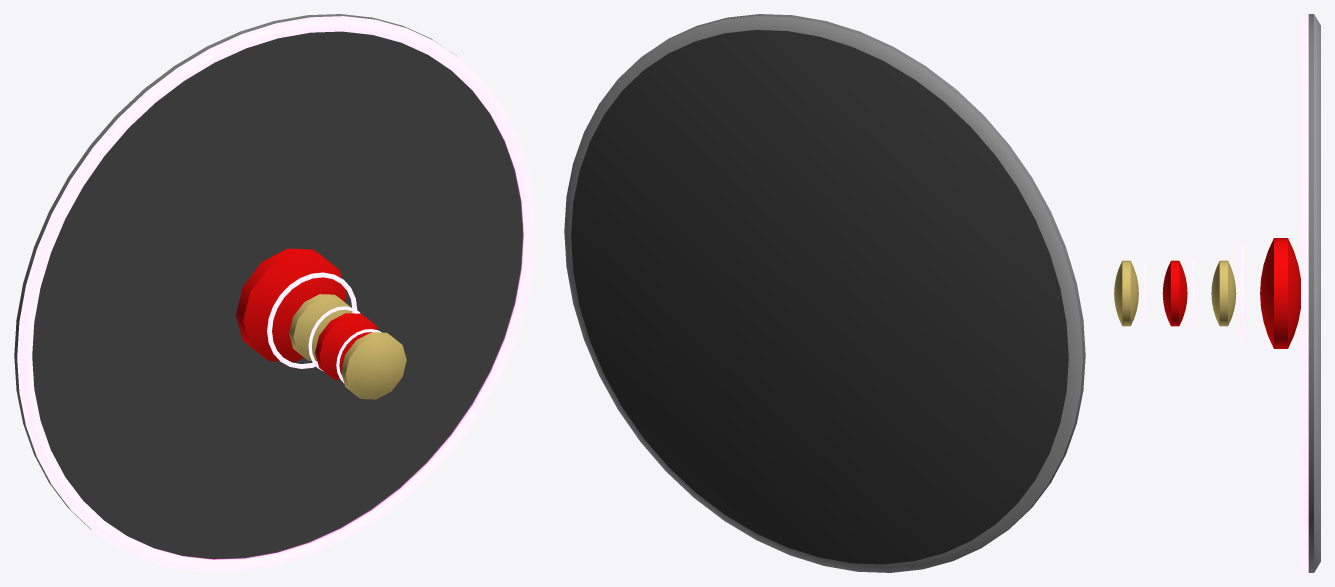
Rendered from BP_TableCircle2_low.fbx.
3 renders of one model, left to right at view 1: azimuth 30°, elevation 25°; view 2: azimuth 150°, elevation 25°; view 3: azimuth 270°, elevation 25°, orthographic. The views are drawn at different scales.
Parts seen in each view (by area): view 1: Table Circle 2; view 2: Table Circle 2; view 3: Table Circle 2.
Part boxes in pixels (x1,y1,x2,y2): Table Circle 2: (14, 14, 535, 572); Table Circle 2: (564, 14, 1085, 572); Table Circle 2: (1114, 14, 1320, 572).
Bounding box in the file's own units: 226 × 226 × 83.38.
